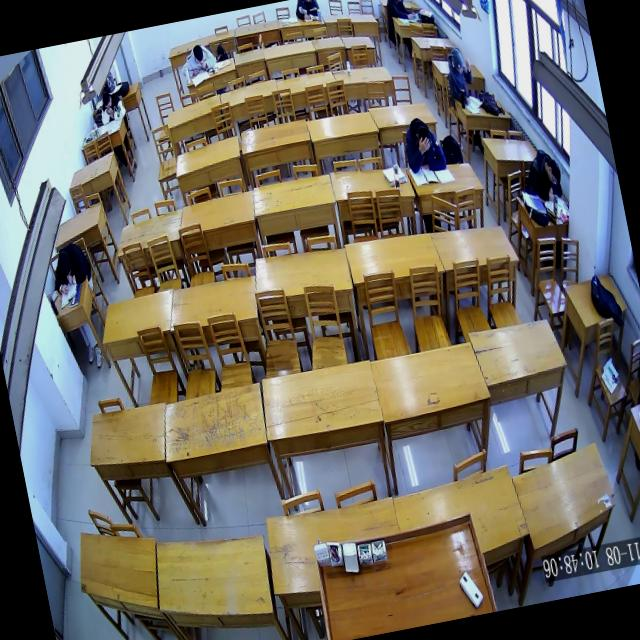bow: (45, 238, 96, 296), (177, 39, 218, 80)
down: (54, 248, 76, 282), (544, 156, 564, 188), (414, 124, 434, 155), (449, 46, 467, 77), (190, 43, 207, 67), (100, 90, 115, 112)
sit: (395, 112, 450, 190), (518, 144, 567, 208), (442, 44, 479, 108), (95, 85, 128, 126), (384, 0, 417, 25)
